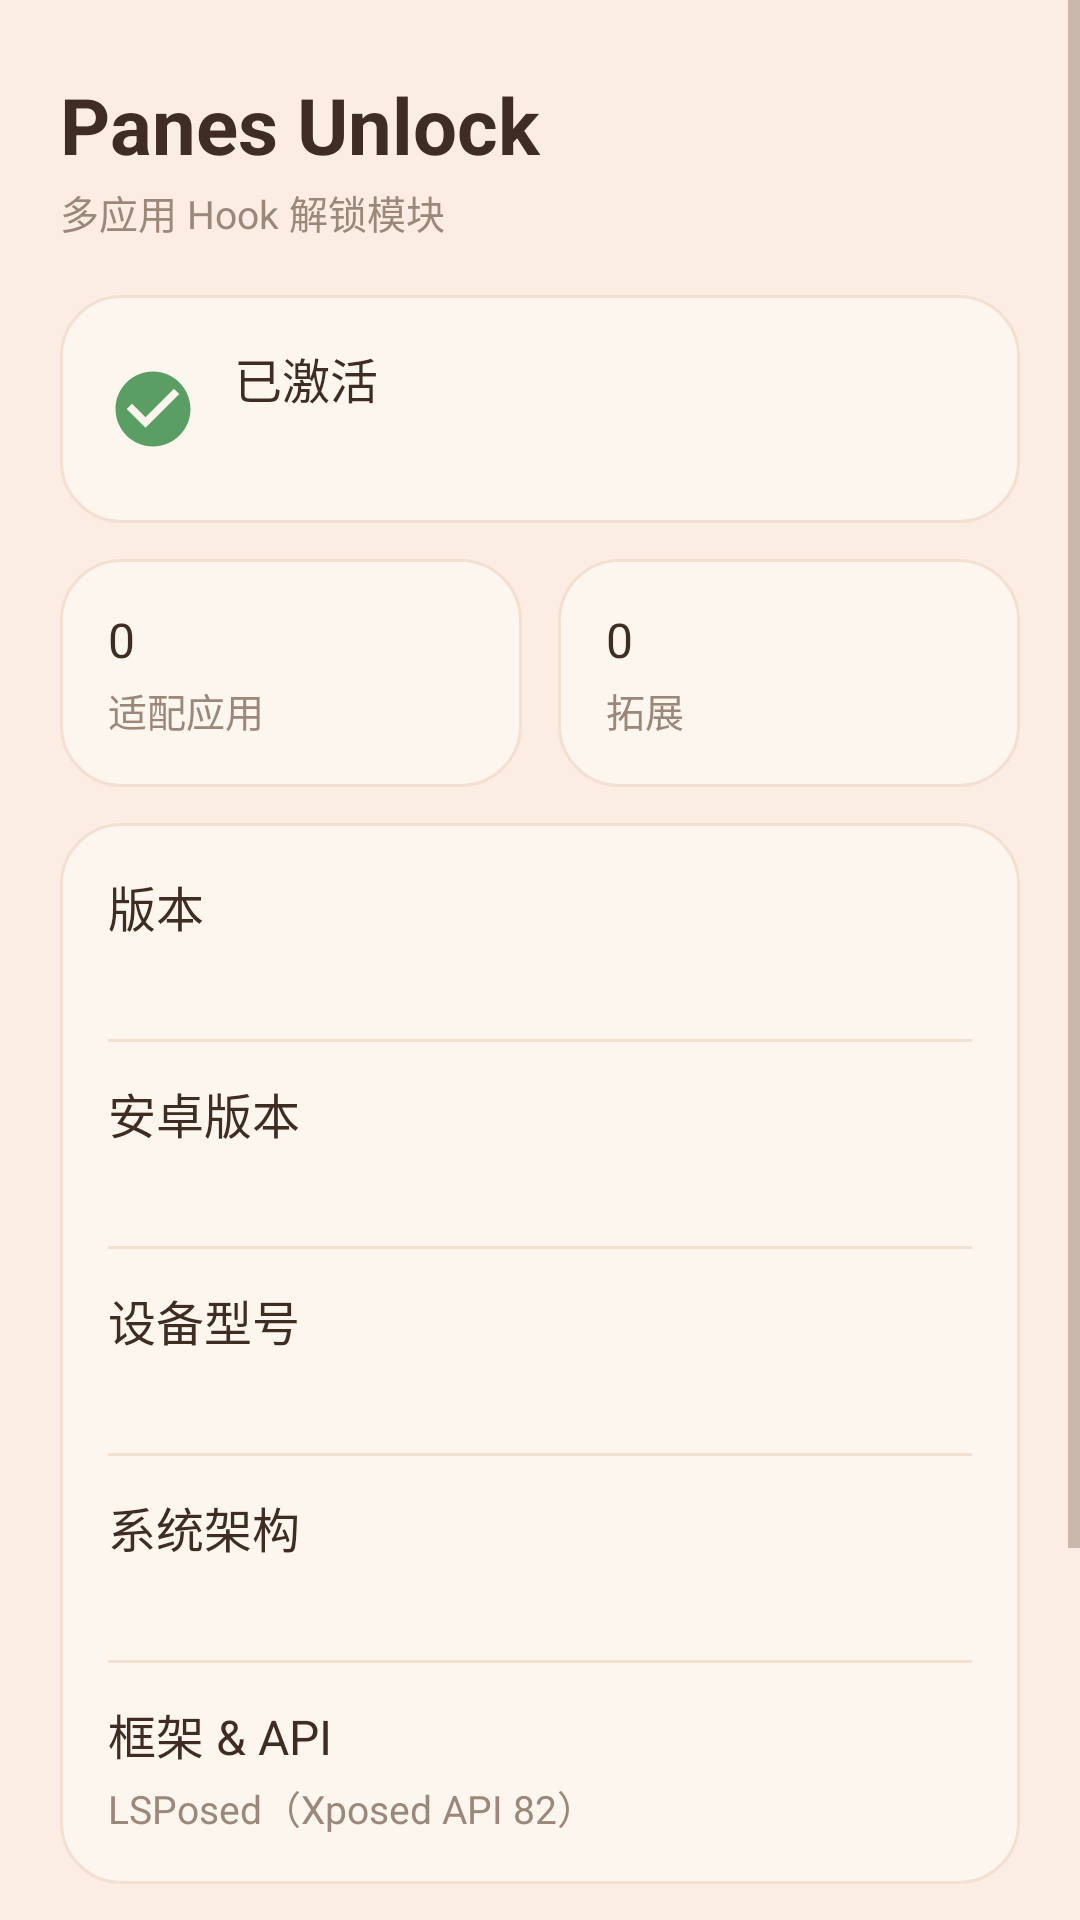

Icons on this 1080px x 1920px Android screen, each with the point to tap as (x=x, y=y):
check circle: (x=153, y=409)
